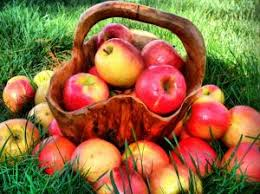apple: (90, 41, 145, 84), (139, 66, 192, 108), (74, 138, 121, 185), (167, 133, 220, 172), (65, 76, 113, 113), (35, 134, 78, 174), (226, 101, 260, 147), (186, 103, 230, 138), (124, 139, 171, 169), (2, 121, 40, 158), (143, 37, 186, 69), (95, 169, 151, 193), (221, 144, 260, 177), (99, 23, 136, 55), (156, 166, 201, 191), (25, 103, 63, 132), (5, 79, 37, 111), (35, 72, 60, 101)
